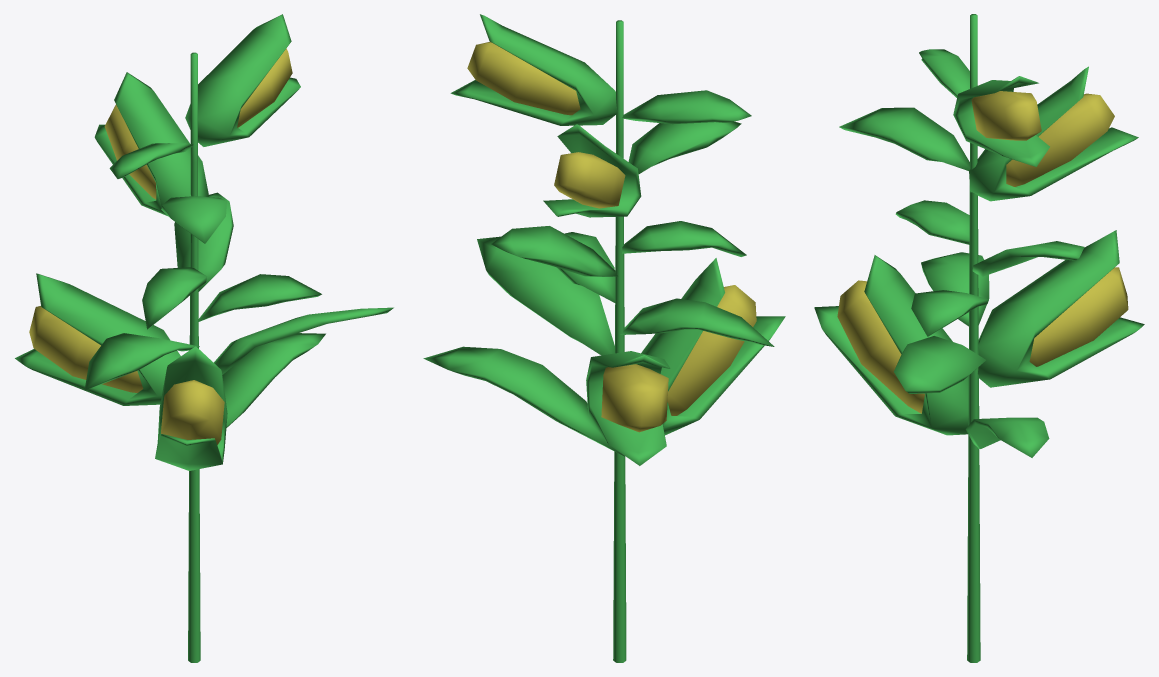
The model's file is Milho_3.fbx.
The picture shows the model from 3 angles, left to right: view 1: azimuth 30°, elevation 25°; view 2: azimuth 150°, elevation 25°; view 3: azimuth 270°, elevation 25°; orthographic projection. The views are drawn at different scales.
Visible parts, largest first — view 1: Milho_3; view 2: Milho_3; view 3: Milho_3.
Part boxes in pixels (<box>): Milho_3: <box>15,14,393,662</box>; Milho_3: <box>423,14,785,662</box>; Milho_3: <box>814,14,1144,662</box>.
Bounding box in the file's own units: 0.8199 × 0.903 × 1.76.
